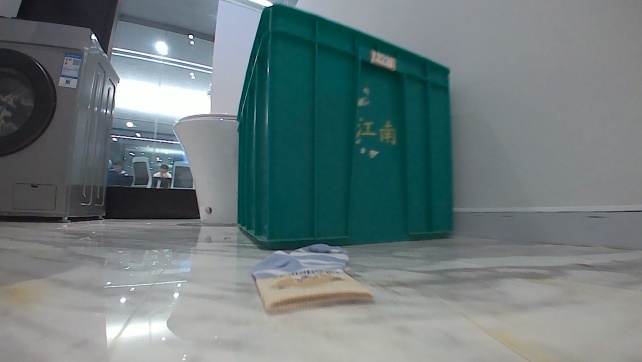socks: (245, 241, 376, 315)
toilet: (168, 111, 242, 227)
washing_machine: (0, 15, 123, 224)
